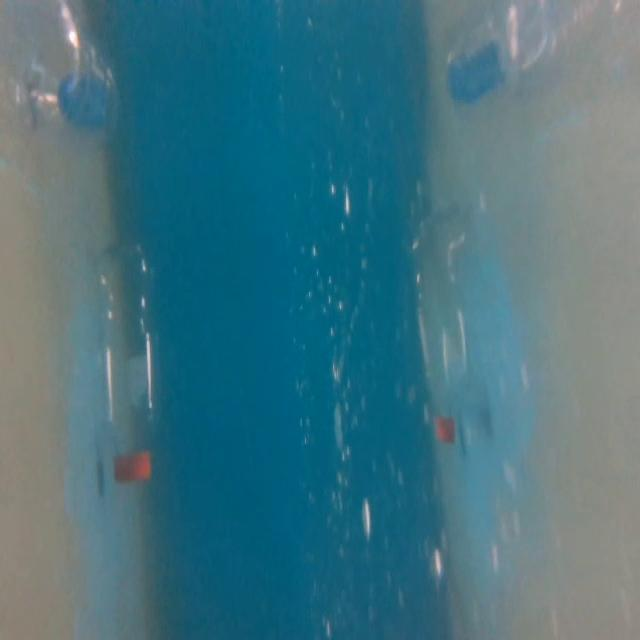plastic bottle: (88, 237, 165, 489)
